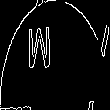M_S: (43, 29, 67, 81)
